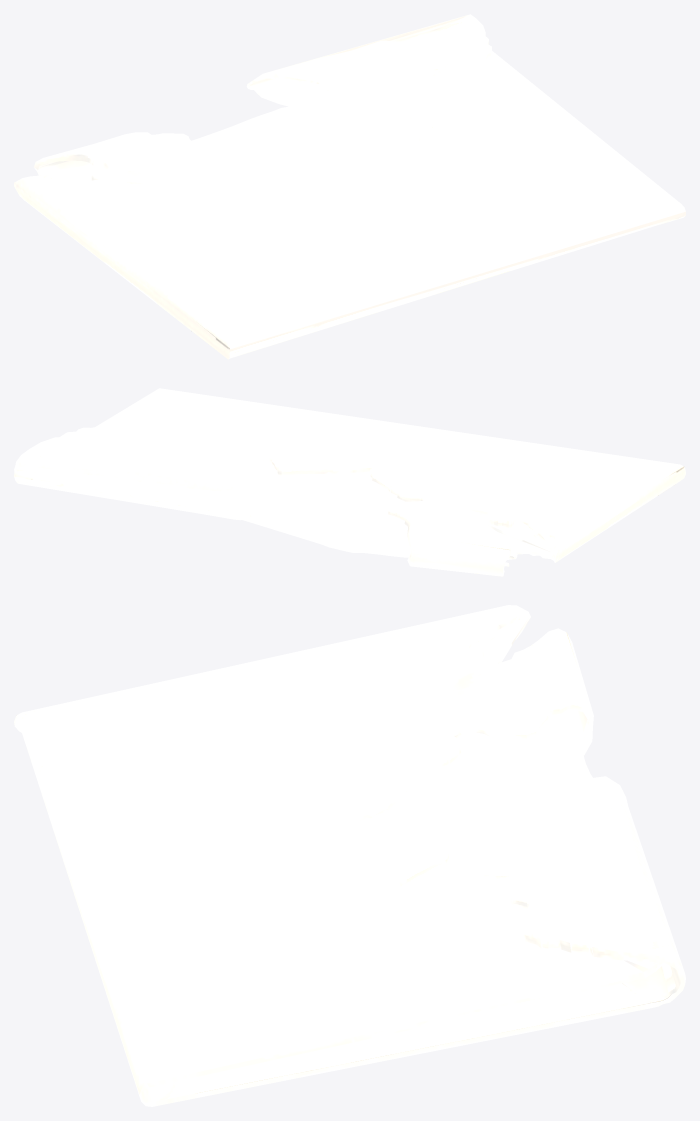
Rendered from E_Letter_B_LOD0.fbx.
3 views of the same model, one above another, from view 1: azimuth 30°, elevation 25°; view 2: azimuth 150°, elevation 25°; view 3: azimuth 270°, elevation 25° (orthographic). The views are drawn at different scales.
Parts seen in each view (by area): view 1: E_Letter_B_LOD0; view 2: E_Letter_B_LOD0; view 3: E_Letter_B_LOD0.
Boxes of the visible parts, x1,y1,x2,y2 form: E_Letter_B_LOD0: (14, 14, 685, 359); E_Letter_B_LOD0: (14, 388, 685, 576); E_Letter_B_LOD0: (14, 605, 685, 1106).
Size of what is drawn, in the model's own units: 29.91 by 5.21 by 21.82.
1 material, 1 textured.
